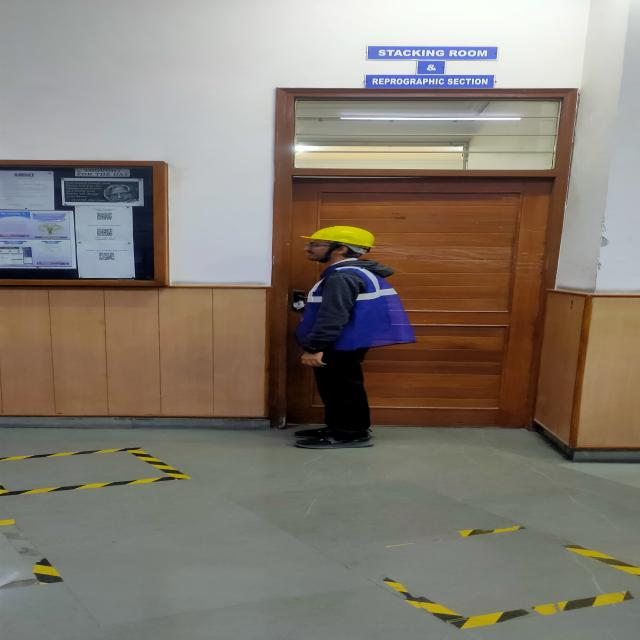safe: (293, 227, 414, 449)
